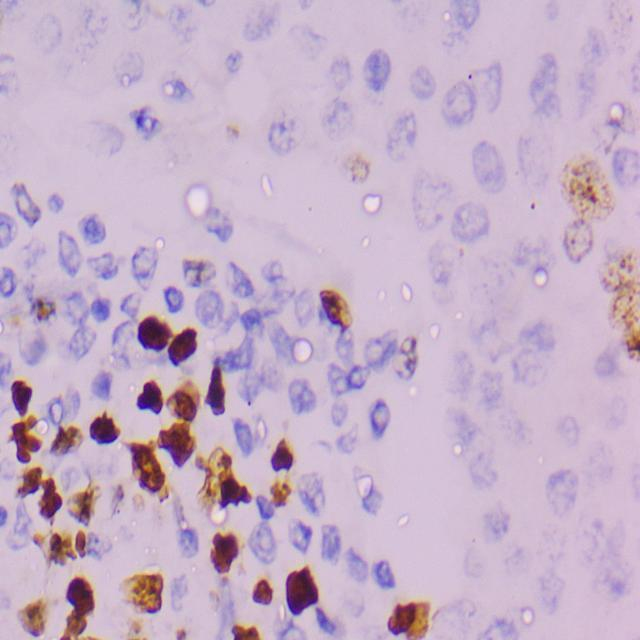Healthy cell: (169, 0, 229, 56), (570, 39, 611, 117), (443, 387, 493, 450), (512, 133, 556, 197), (406, 169, 447, 233), (443, 198, 491, 244), (195, 283, 232, 342), (437, 77, 477, 129), (510, 235, 556, 276), (259, 109, 302, 152), (546, 470, 579, 524), (534, 53, 562, 116), (326, 89, 366, 133), (373, 558, 409, 606), (478, 503, 514, 551), (428, 239, 468, 282), (214, 340, 260, 377), (474, 139, 510, 186), (29, 9, 63, 58), (125, 99, 164, 141), (466, 316, 514, 350), (475, 62, 505, 116), (390, 112, 423, 161), (83, 115, 125, 153), (607, 144, 640, 192), (538, 552, 564, 608), (482, 363, 511, 413), (68, 324, 104, 364), (443, 6, 481, 43), (366, 44, 393, 96), (15, 323, 50, 363), (10, 490, 34, 548), (286, 519, 319, 561), (240, 5, 276, 43), (126, 243, 157, 287), (159, 76, 194, 114), (367, 398, 397, 442), (113, 43, 142, 88), (289, 369, 315, 419), (405, 54, 432, 102), (205, 209, 242, 244), (108, 317, 136, 363), (296, 469, 326, 511), (478, 613, 524, 640), (229, 420, 262, 457), (328, 428, 362, 462), (288, 283, 314, 327), (442, 354, 472, 392), (235, 304, 272, 334), (516, 350, 545, 388), (85, 287, 112, 327), (224, 264, 254, 300), (89, 243, 117, 281), (326, 518, 349, 562), (0, 263, 24, 305), (555, 412, 579, 454), (58, 229, 80, 274), (462, 456, 500, 482), (250, 529, 279, 563), (80, 213, 109, 247), (264, 254, 284, 302), (346, 363, 374, 397), (252, 490, 276, 527), (178, 524, 202, 560), (274, 322, 292, 369), (523, 320, 554, 346), (329, 360, 352, 394), (240, 369, 260, 408), (115, 292, 148, 314), (586, 348, 614, 373), (164, 280, 182, 318), (330, 57, 352, 88), (463, 546, 485, 576), (63, 296, 84, 326), (366, 338, 391, 363), (173, 568, 189, 606), (0, 215, 16, 252), (343, 553, 365, 579), (92, 528, 110, 558), (333, 340, 360, 358), (66, 460, 84, 484), (0, 353, 14, 381), (332, 396, 348, 420), (0, 496, 10, 532), (46, 193, 61, 214)
cancer-cell-QiJm: (558, 153, 616, 225), (603, 248, 640, 358), (123, 570, 174, 620), (202, 573, 240, 640), (200, 452, 247, 505), (153, 419, 201, 466), (392, 335, 428, 393), (318, 285, 358, 335), (12, 412, 49, 466), (558, 212, 592, 270), (128, 445, 168, 490), (389, 596, 426, 640), (287, 562, 318, 614), (18, 287, 58, 327), (46, 382, 86, 422), (30, 530, 69, 570), (163, 382, 201, 422), (216, 528, 249, 574), (432, 593, 464, 640), (9, 180, 40, 228), (136, 314, 175, 352), (57, 580, 106, 610), (314, 592, 348, 635), (61, 489, 98, 527), (36, 470, 63, 520), (205, 366, 232, 415), (126, 486, 174, 512), (126, 610, 167, 640), (52, 609, 97, 636), (163, 328, 197, 363), (182, 247, 210, 289), (136, 373, 164, 415), (92, 404, 124, 440), (341, 152, 374, 186), (20, 602, 50, 638), (52, 422, 82, 456), (82, 369, 111, 402), (367, 454, 391, 492), (99, 486, 125, 521), (270, 479, 294, 514), (8, 380, 32, 414), (229, 616, 262, 640), (0, 300, 21, 337), (15, 466, 40, 496), (252, 573, 274, 603), (170, 617, 198, 640), (65, 529, 88, 556), (269, 441, 291, 468), (223, 122, 242, 151)
